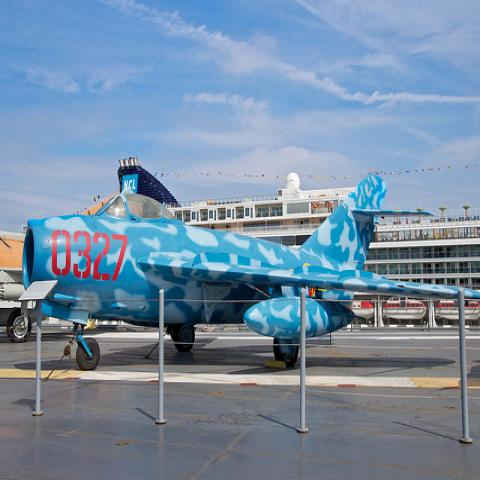truck: (0, 228, 37, 342)
